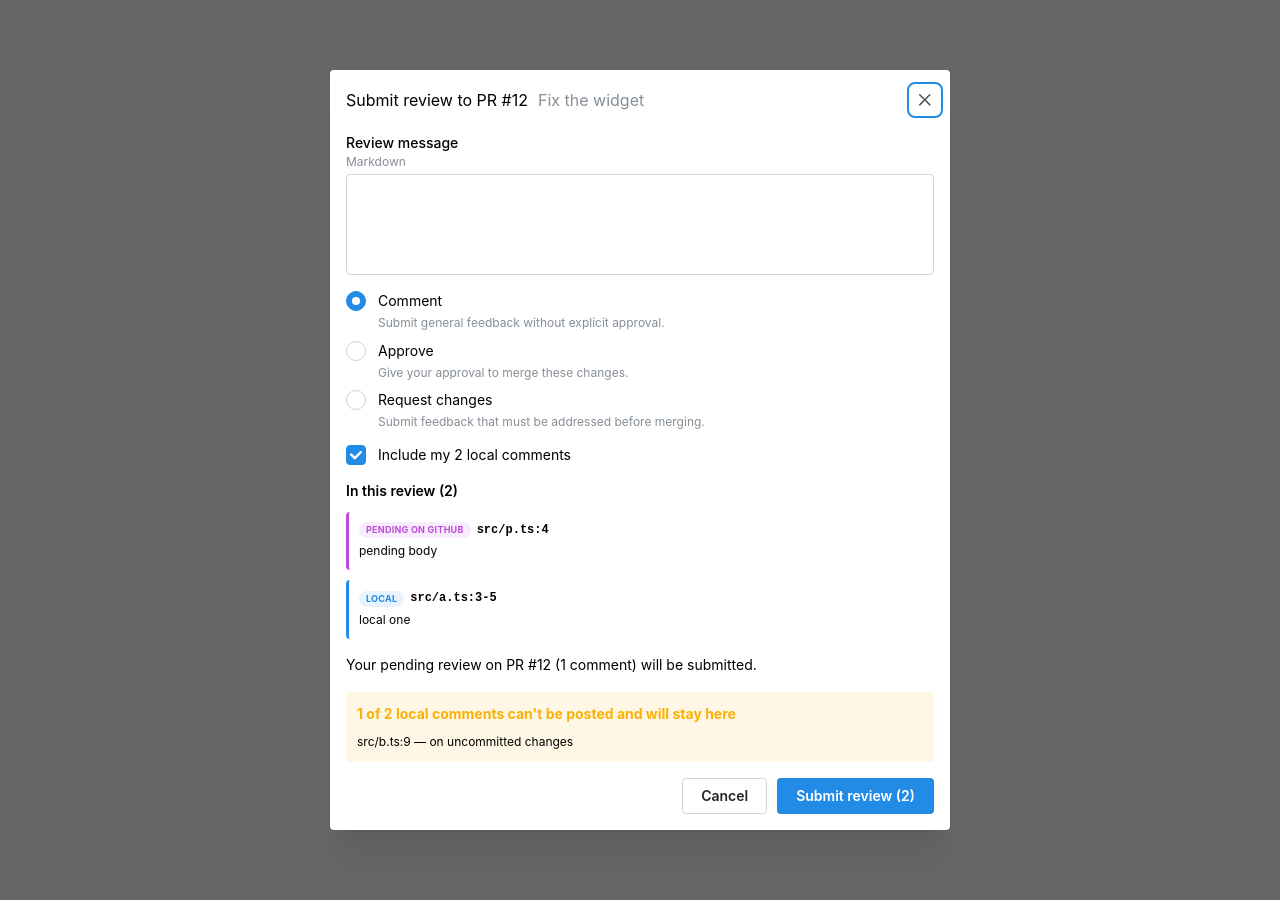
SubmitReviewModal › unchecking the box drops local comments from the list and hides the warning
The width and height of the screenshot is (1280, 900).
Step 1. Click the checkbox labelled "Include my 2 local comments" → (356, 455), box left=346, top=445, right=366, bottom=465
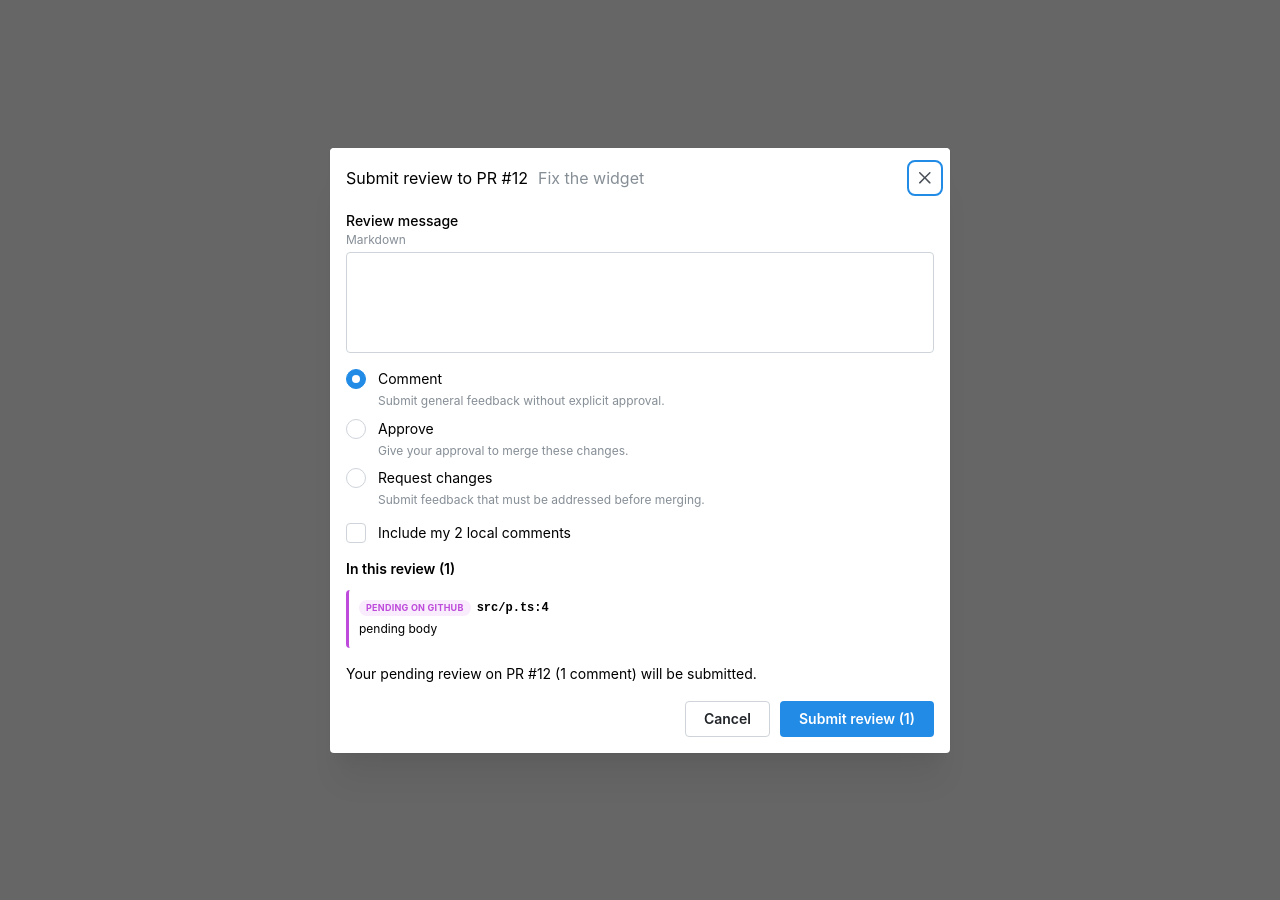
Now the checkbox labelled "Include my 2 local comments" is not checked, box left=346, top=523, right=366, bottom=543
Now the text "In this review (1)" is shown, box left=346, top=560, right=455, bottom=577
Now the text "local one" is gone
